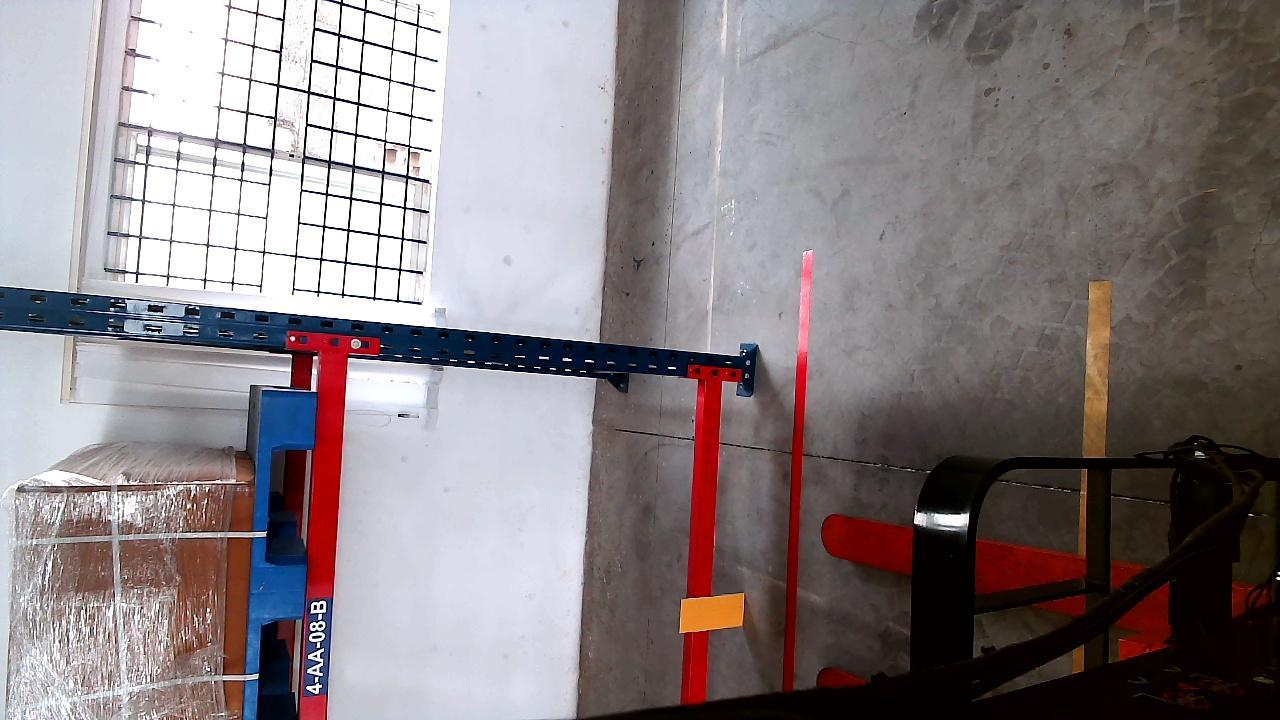red_line: (786, 248, 816, 695)
yellow_line: (1086, 281, 1111, 457)
